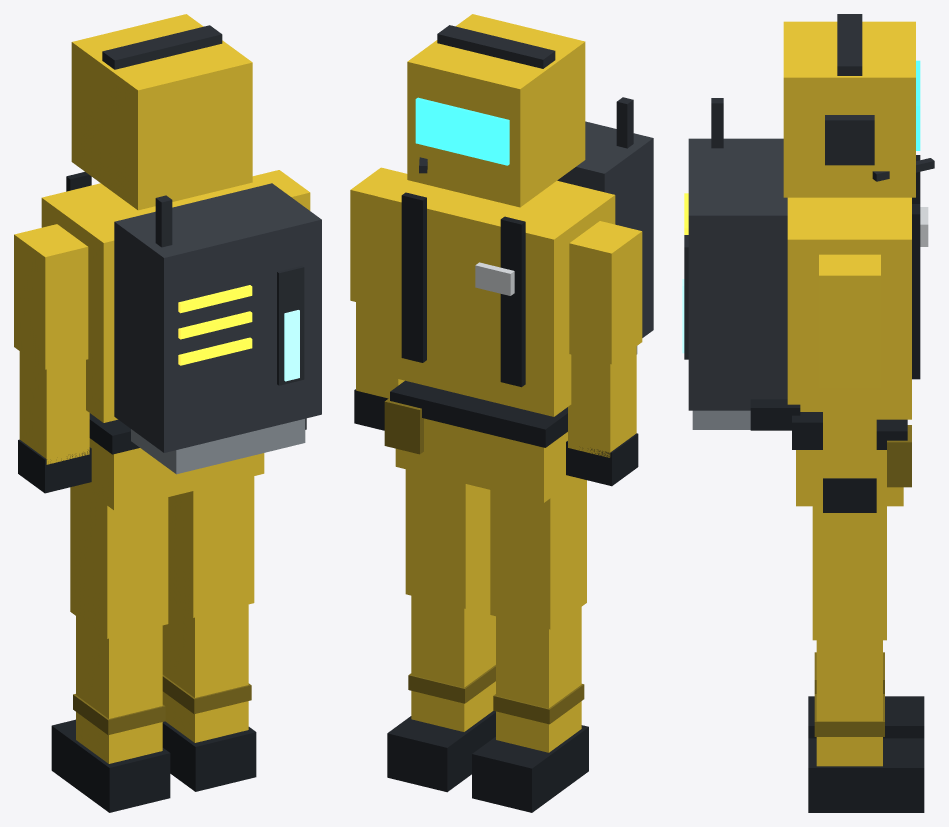
File: ion_rig_hazmat_yellow.glb
3 renders of one model, left to right at view 1: azimuth 30°, elevation 25°; view 2: azimuth 150°, elevation 25°; view 3: azimuth 270°, elevation 25°, orthographic.
Parts seen in each view (by area): view 1: Merged4, Merged, Merged5, Merged6, _MeshInstance3D_2855, _MeshInstance3D_2866, _MeshInstance3D_2850, Merged2, Merged7, _MeshInstance3D_2861; view 2: Merged4, Merged, Merged5, Merged6, Merged7, _MeshInstance3D_2855, _MeshInstance3D_2866, _MeshInstance3D_2850, Merged2, _MeshInstance3D_2861, Merged3; view 3: Merged4, Merged, Merged6, _MeshInstance3D_2866, _MeshInstance3D_2861, Merged3, Merged7, Merged5.
Part boxes in pixels (x1=…): Merged4: x1=41, y1=172, x2=321, y2=474; Merged: x1=71, y1=14, x2=252, y2=210; Merged5: x1=51, y1=616, x2=170, y2=812; Merged6: x1=162, y1=600, x2=256, y2=791; _MeshInstance3D_2855: x1=70, y1=485, x2=168, y2=638; _MeshInstance3D_2866: x1=168, y1=476, x2=254, y2=617; _MeshInstance3D_2850: x1=14, y1=224, x2=88, y2=369; Merged2: x1=18, y1=351, x2=91, y2=493; Merged7: x1=79, y1=413, x2=264, y2=510; _MeshInstance3D_2861: x1=252, y1=170, x2=310, y2=210; Merged4: x1=377, y1=97, x2=653, y2=416; Merged: x1=407, y1=14, x2=585, y2=207; Merged5: x1=472, y1=607, x2=588, y2=812; Merged6: x1=387, y1=591, x2=495, y2=792; Merged7: x1=384, y1=380, x2=577, y2=502; _MeshInstance3D_2855: x1=490, y1=478, x2=586, y2=629; _MeshInstance3D_2866: x1=405, y1=469, x2=490, y2=608; _MeshInstance3D_2850: x1=569, y1=221, x2=642, y2=364; Merged2: x1=566, y1=346, x2=638, y2=486; _MeshInstance3D_2861: x1=350, y1=167, x2=407, y2=307; Merged3: x1=354, y1=302, x2=404, y2=430; Merged4: x1=682, y1=98, x2=928, y2=444; Merged: x1=783, y1=14, x2=934, y2=197; Merged6: x1=808, y1=640, x2=924, y2=812; _MeshInstance3D_2866: x1=812, y1=506, x2=886, y2=640; _MeshInstance3D_2861: x1=819, y1=254, x2=880, y2=387; Merged3: x1=823, y1=388, x2=876, y2=512; Merged7: x1=792, y1=419, x2=911, y2=506; Merged5: x1=808, y1=652, x2=924, y2=738.
Bounding box in the file's own units: 0.74 × 1.97 × 0.61.
